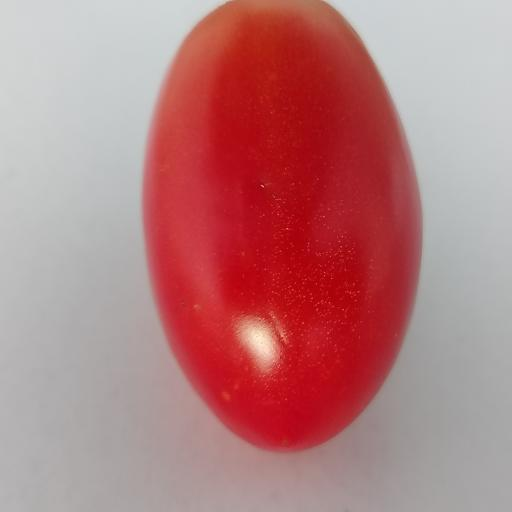ripe: (144, 0, 422, 451)
